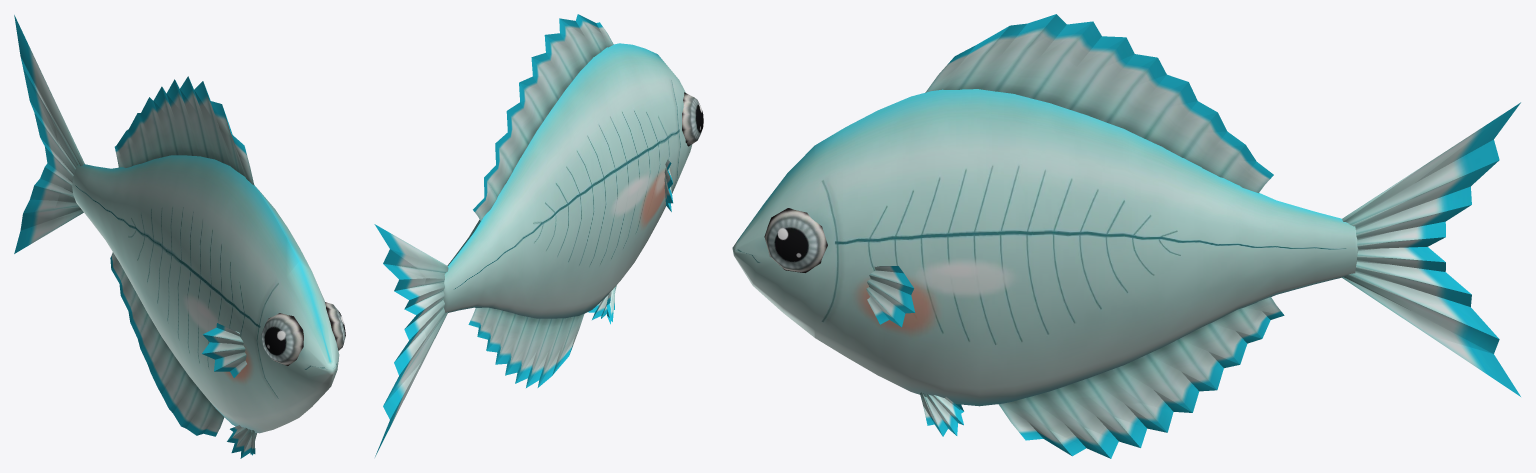
The model's file is glassfin.glb.
3 views of the same model, side by side, from view 1: azimuth 30°, elevation 25°; view 2: azimuth 150°, elevation 25°; view 3: azimuth 270°, elevation 25° (orthographic). The views are drawn at different scales.
Visible parts, largest first — view 1: glassfin; view 2: glassfin; view 3: glassfin.
Boxes of the visible parts, bbox=[...] form: glassfin: bbox=[14, 15, 345, 458]; glassfin: bbox=[374, 14, 703, 456]; glassfin: bbox=[732, 14, 1520, 458].
Bounding box in the file's own units: 0.2036 × 0.6222 × 1.
Materials: 1 (1 with a texture image).
